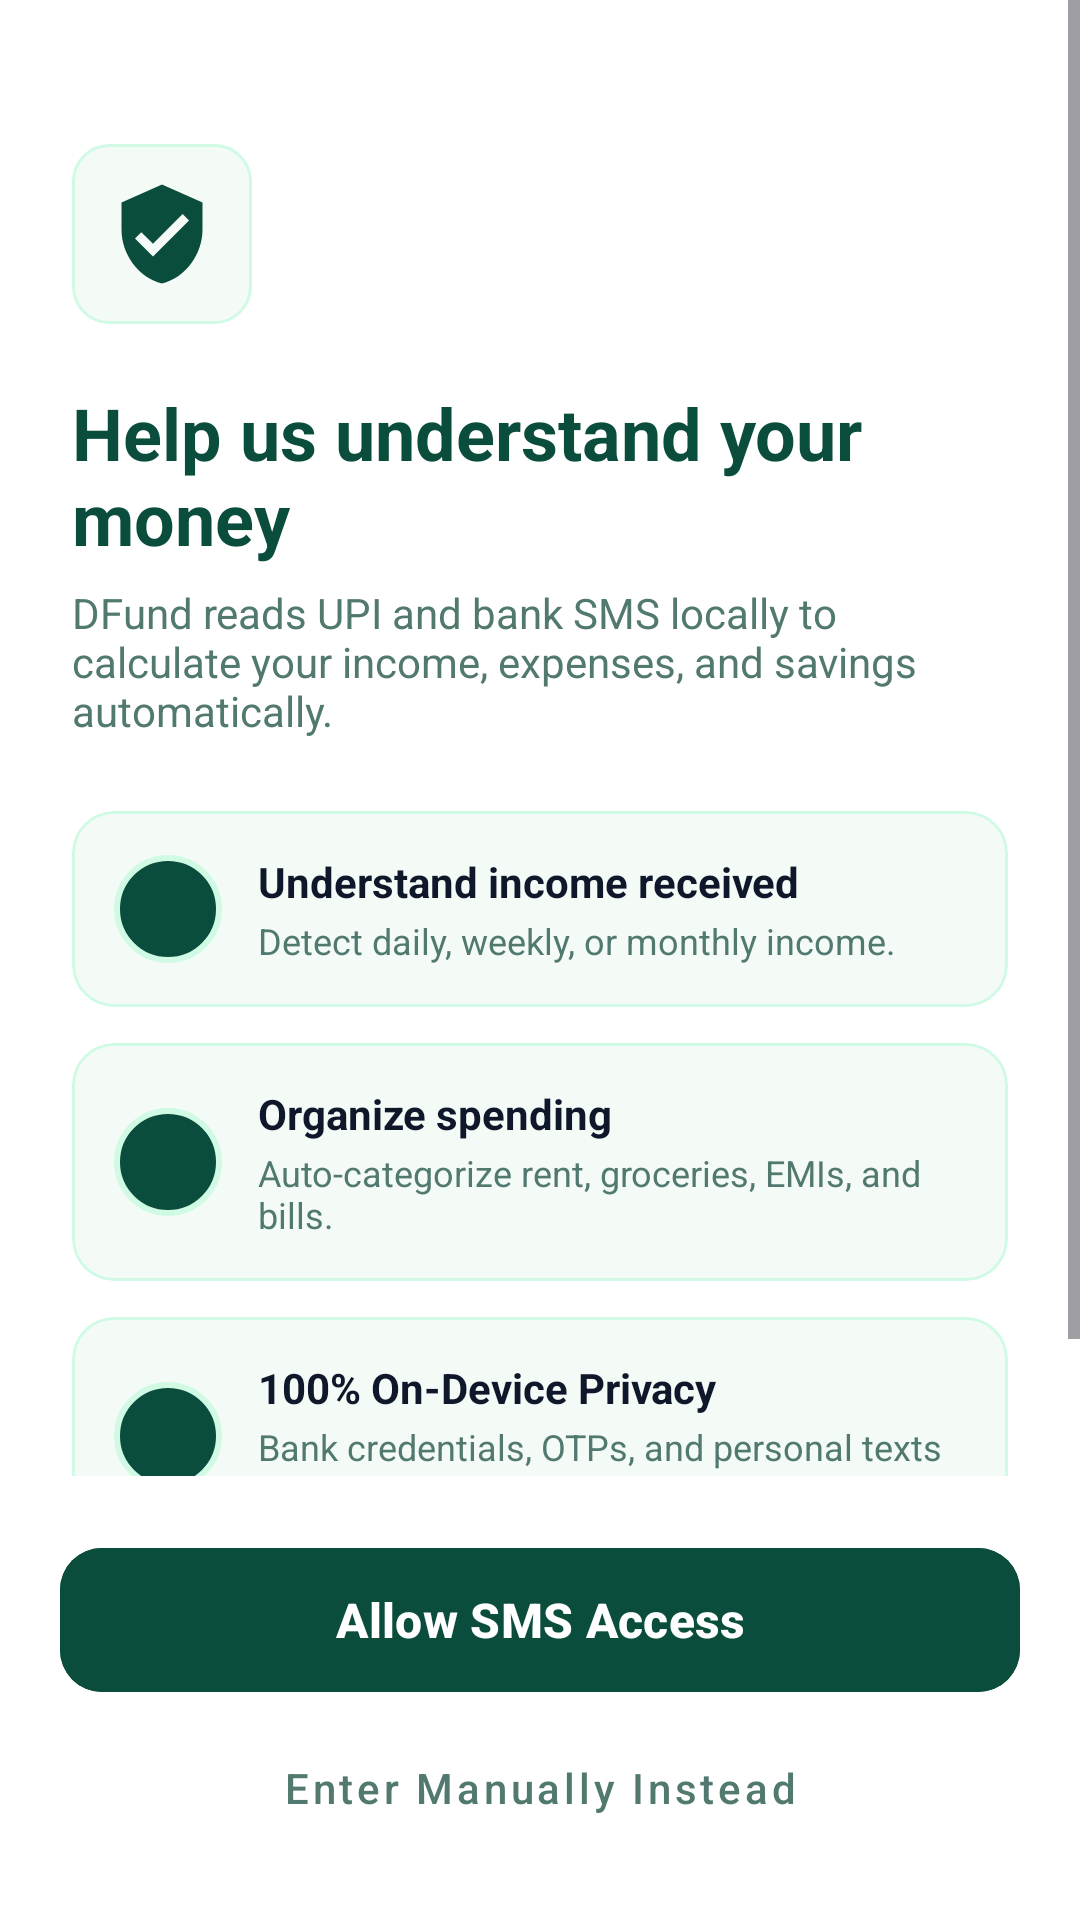

Screen size 1080w x 1920h. Icon name, then its center in pixels as point (x, y):
Security: point (162, 234)
